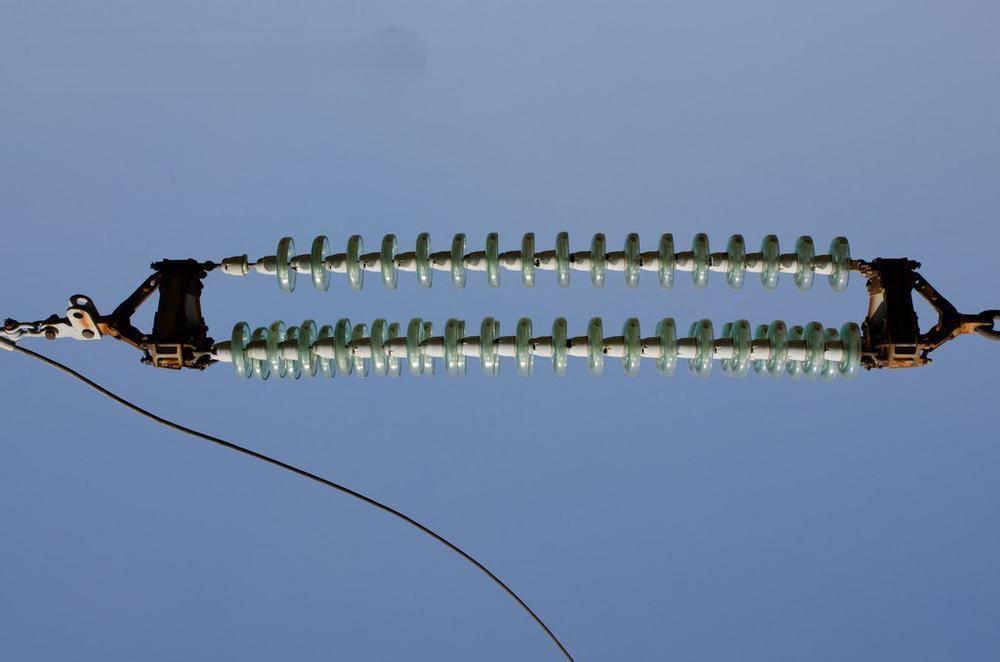insulator: (224, 313, 867, 389), (267, 227, 859, 299)
